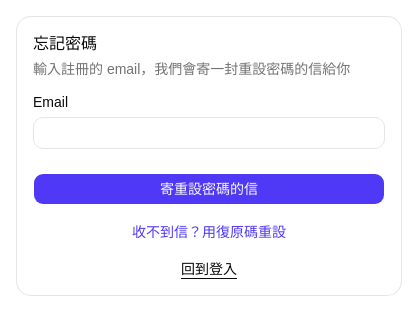
Test case: ForgotPasswordPage › sends the link and says it comes only if the email is registered
In the field labelled "Email": (209, 133) left=33, top=117, right=385, bottom=149, type "a@example.com"
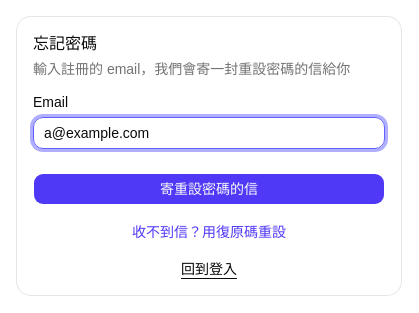
Click the button "寄重設密碼的信": click(209, 189) left=33, top=173, right=385, bottom=205
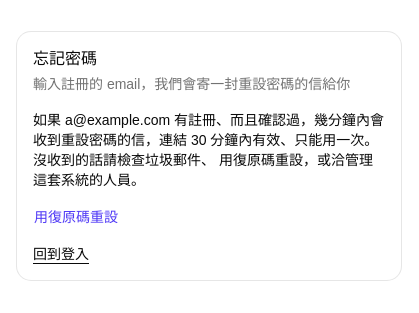
Expected: the message shows "如果 a@example.com 有註冊、而且確認過，幾分鐘內會收到重設密碼的信", left=33, top=110, right=385, bottom=190
